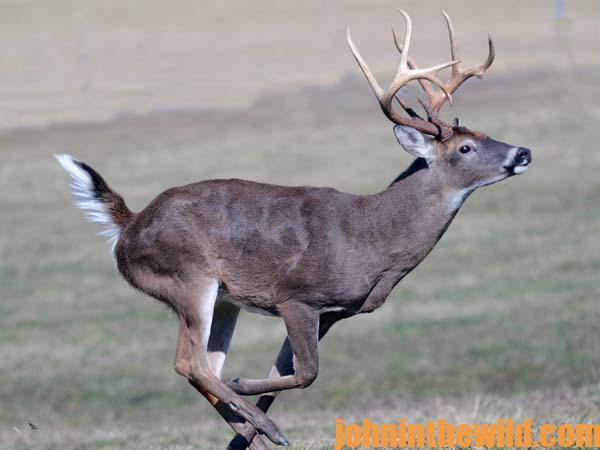Deer: (50, 7, 540, 450)
